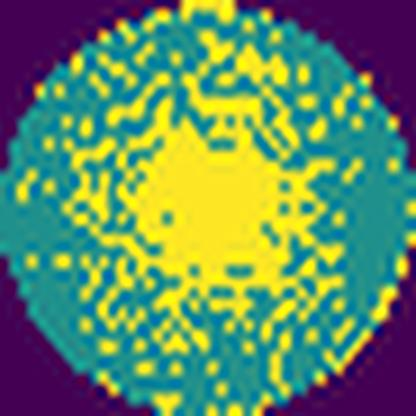Center: (78, 75, 317, 294)
